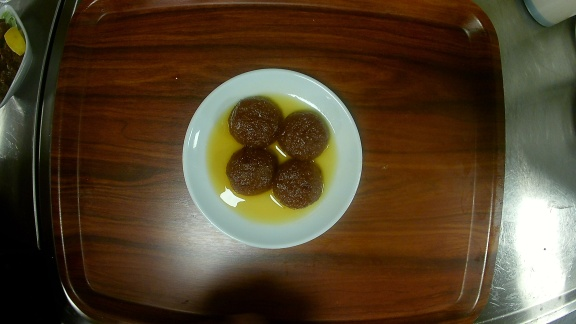kemalpasa: (181, 68, 364, 247)
